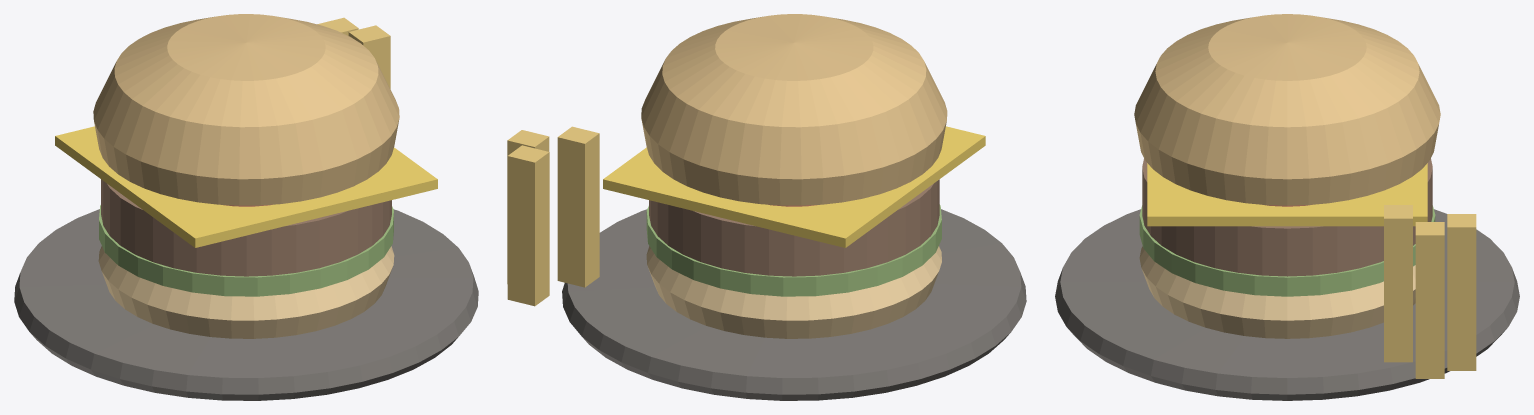
File: hamburguesa.glb
3 views of the same model, side by side, from view 1: azimuth 30°, elevation 25°; view 2: azimuth 150°, elevation 25°; view 3: azimuth 270°, elevation 25° (orthographic).
Parts seen in each view (by area): view 1: p8, p0, p3, p1, p4, p2, p19; view 2: p8, p0, p3, p1, p4, p18, p20, p2, p19; view 3: p8, p0, p3, p1, p4, p2, p19, p20, p18.
Part boxes in pixels (x1,y1,x2,y2): p8: [93, 14, 399, 205]; p0: [14, 209, 478, 400]; p3: [101, 179, 391, 276]; p1: [98, 246, 394, 338]; p4: [55, 126, 437, 247]; p2: [99, 205, 393, 296]; p19: [348, 25, 390, 88]; p8: [641, 14, 947, 205]; p0: [562, 209, 1026, 400]; p3: [649, 179, 939, 276]; p1: [646, 246, 941, 338]; p4: [603, 126, 985, 247]; p18: [557, 126, 599, 287]; p20: [507, 145, 549, 306]; p2: [646, 204, 941, 296]; p19: [507, 130, 549, 283]; p8: [1134, 14, 1440, 205]; p0: [1055, 209, 1519, 400]; p3: [1142, 158, 1432, 276]; p1: [1139, 246, 1415, 338]; p4: [1147, 163, 1427, 226]; p2: [1139, 205, 1435, 296]; p19: [1415, 222, 1444, 378]; p20: [1447, 214, 1476, 370]; p18: [1384, 205, 1412, 362].
Bounding box in the file's own units: 0.179 × 0.11 × 0.176.
